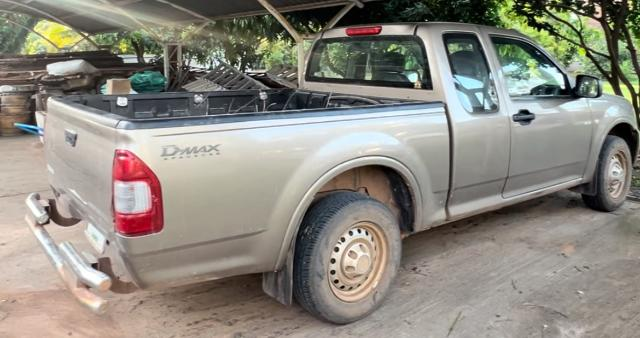pickup-truck: (27, 20, 640, 325)
